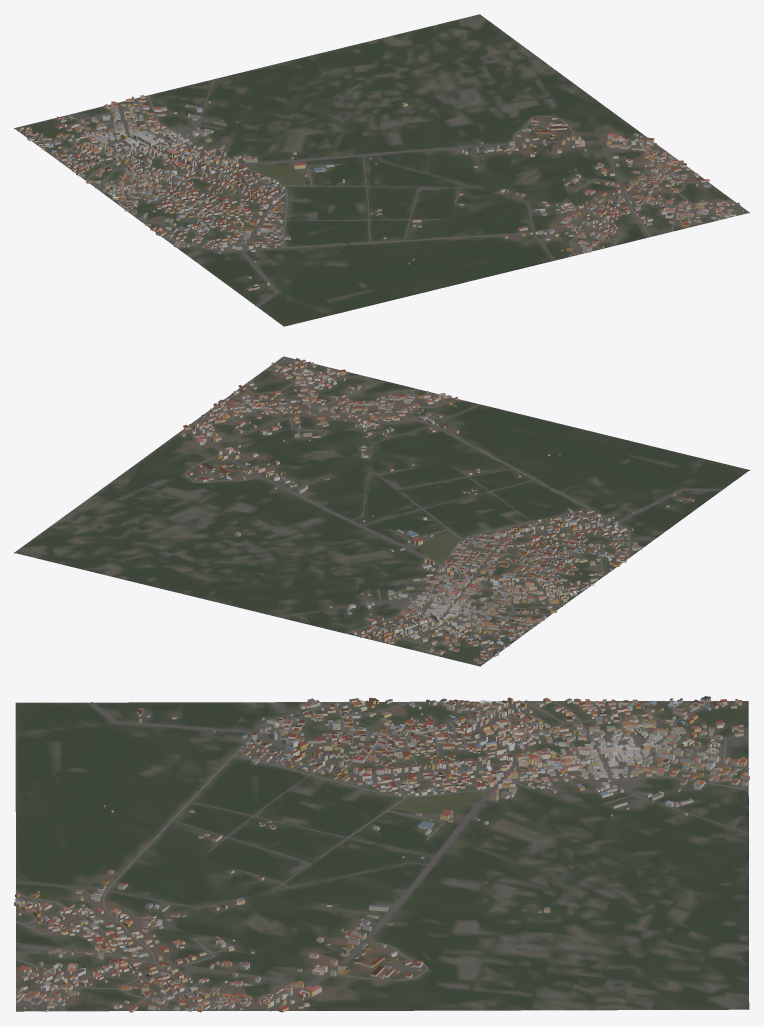
3 views of the same model, one above another, from view 1: azimuth 30°, elevation 25°; view 2: azimuth 150°, elevation 25°; view 3: azimuth 270°, elevation 25° (orthographic). The views are drawn at different scales.
Visible parts, largest first — view 1: ground, buildings, roads; view 2: ground, buildings, roads; view 3: ground, buildings, roads.
Boxes of the visible parts, <box> form: ground: <box>14,14,749,326</box>; buildings: <box>17,95,743,290</box>; roads: <box>25,79,742,306</box>; ground: <box>14,356,749,666</box>; buildings: <box>181,358,694,663</box>; roads: <box>185,359,722,658</box>; ground: <box>15,701,749,1011</box>; buildings: <box>14,696,749,1012</box>; roads: <box>15,700,749,1011</box>.
Size of the model in its own units: 1412 by 19.35 by 1408.
